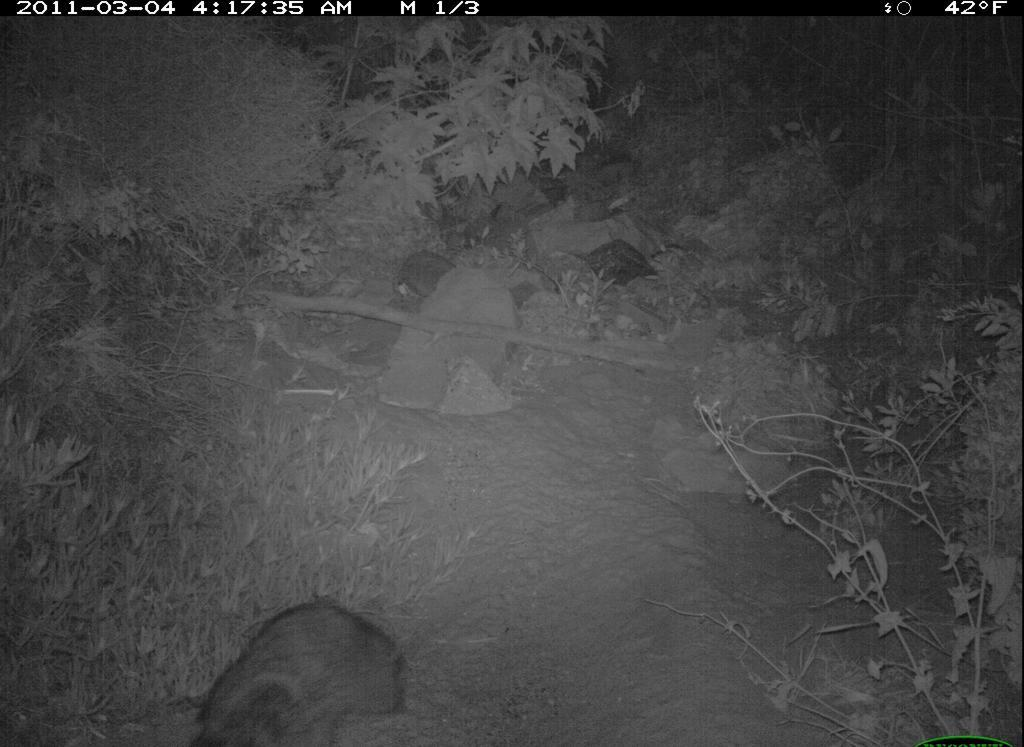raccoon: (178, 587, 423, 747)
